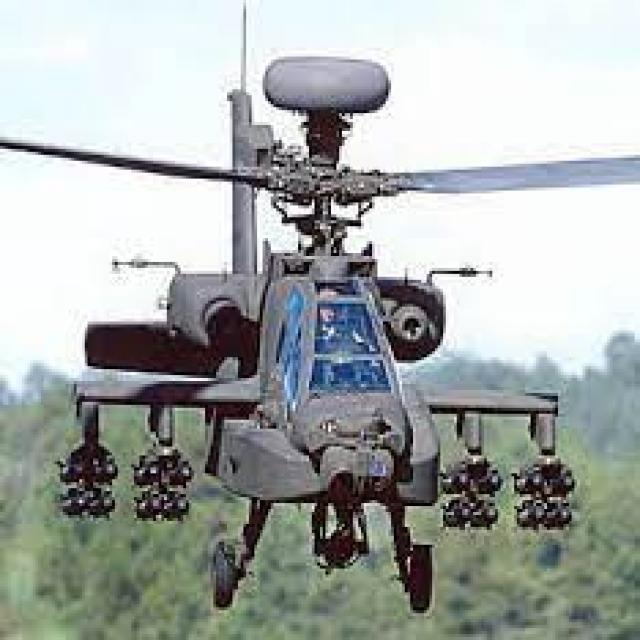Apache: (2, 59, 640, 616)
